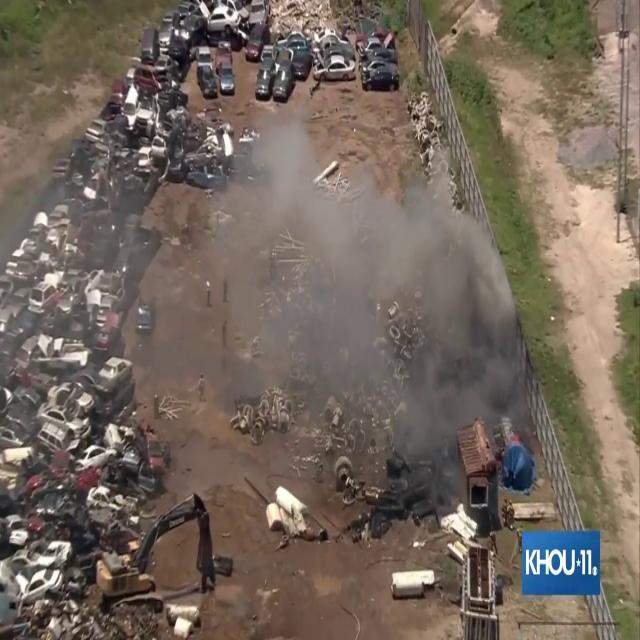Smoke: (190, 96, 530, 486)
